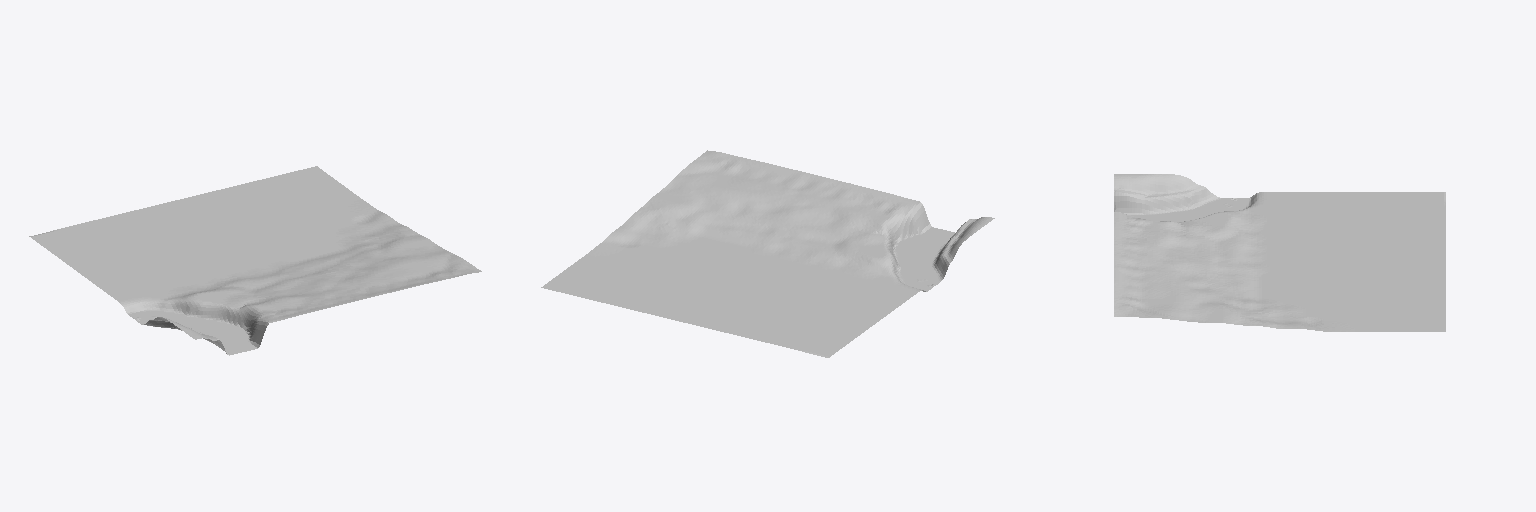
File: SM_Terrain_Tuto1Chunk1.0.obj
3 views of the same model, side by side, from view 1: azimuth 30°, elevation 25°; view 2: azimuth 150°, elevation 25°; view 3: azimuth 270°, elevation 25° (orthographic).
Size of the model in its own units: 100 by 8 by 100.